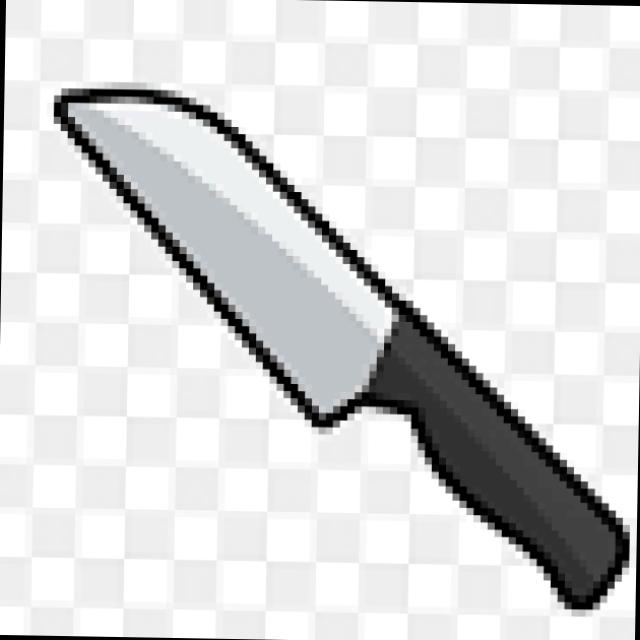Gun: (30, 66, 640, 623)
